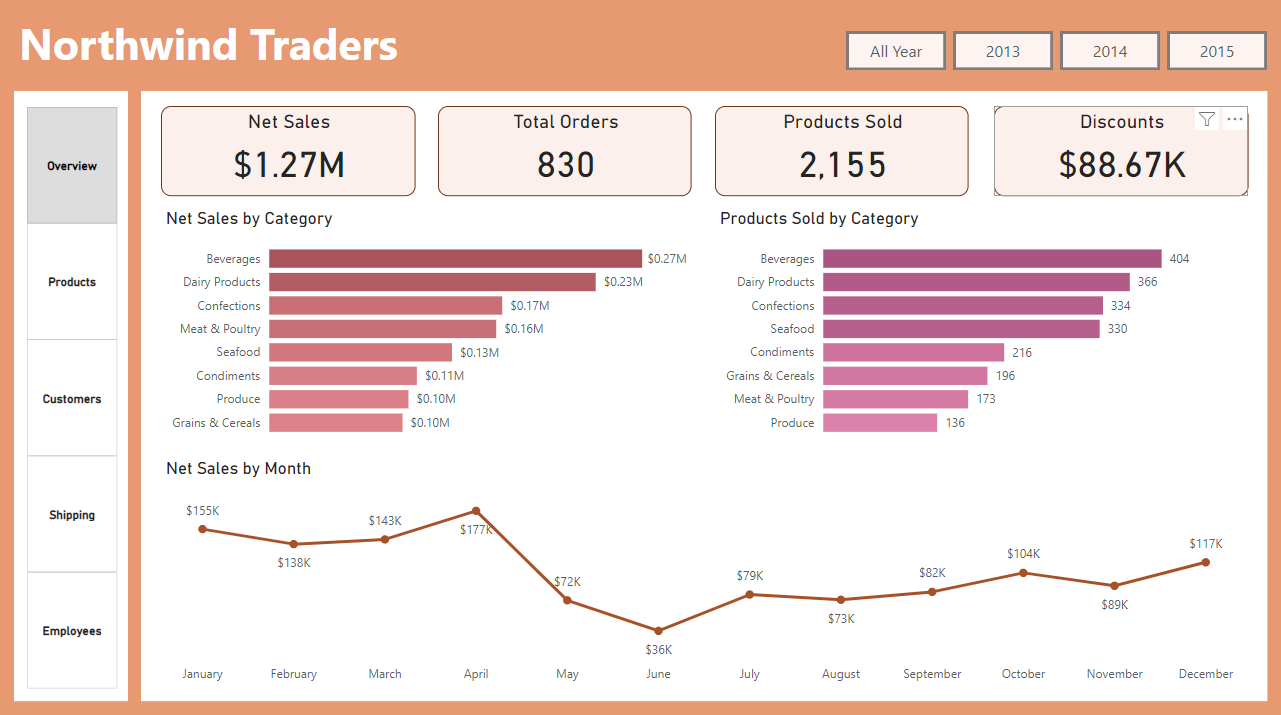

The page's visual inventory and layout, read from the dashboard file:
{"tool":"powerbi","page":{"name":"Overview","canvas":[1280,720],"ordinal":0},"visuals":[{"type":"textbox","box":[15.1,12.8,676,82.5],"z":0},{"type":"shape","box":[141.2,95,1123.8,608.8],"z":1000},{"type":"shape","box":[15,95,113.8,608.8],"z":2000},{"type":"card","title":"Net Sales","fields":{"Values":["_measures.Net Sales"]},"box":[161.2,110,253.8,90],"z":3000},{"type":"card","title":"Total Orders","fields":{"Values":["_measures.Total Orders"]},"box":[438.3,110,253.3,90],"z":4000},{"type":"card","title":"Products Sold","fields":{"Values":["_measures.Products Sold"]},"box":[714.2,110,253.3,90],"z":5000},{"type":"card","title":"Discounts","fields":{"Values":["_measures.Discounts"]},"box":[992.5,110,253.8,90],"z":6000},{"type":"barChart","title":"Net Sales by Category","fields":{"Y":["_measures.Net Sales"],"Category":["categories.categoryName"]},"box":[161.5,211.4,529.7,238.1],"z":7000},{"type":"barChart","title":"Products Sold by Category","fields":{"Category":["categories.categoryName"],"Y":["_measures.Products Sold"]},"box":[714.3,211.4,530.8,238.1],"z":8000},{"type":"lineChart","title":"Net Sales by Month","fields":{"Y":["_measures.Net Sales"],"Category":["date_table.Date.Variation.Date Hierarchy.Month"]},"box":[161.5,461.1,1083.7,233.5],"z":9000},{"type":"actionButton","box":[845,35,100,39.4],"z":10000},{"type":"actionButton","box":[951.4,35,100,39.3],"z":11000},{"type":"actionButton","box":[1058.6,35,100,39.3],"z":12000},{"type":"actionButton","box":[1165,34.8,99.9,39.5],"z":13000},{"type":"pageNavigator","box":[27.9,110.3,90.6,584.2],"z":14000}]}

Visuals, with their boxes in screenshot pixels (x1, y1, x2, y2), scaled from the page's 1280x720 canvas onto the 1281x715 screenshot:
textbox: locate(15, 13, 692, 95)
shape: locate(141, 94, 1266, 699)
shape: locate(15, 94, 129, 699)
"Net Sales" card: locate(161, 109, 415, 199)
"Total Orders" card: locate(439, 109, 692, 199)
"Products Sold" card: locate(715, 109, 968, 199)
"Discounts" card: locate(993, 109, 1247, 199)
"Net Sales by Category" barChart: locate(162, 210, 692, 446)
"Products Sold by Category" barChart: locate(715, 210, 1246, 446)
"Net Sales by Month" lineChart: locate(162, 458, 1246, 690)
actionButton: locate(846, 35, 946, 74)
actionButton: locate(952, 35, 1052, 74)
actionButton: locate(1059, 35, 1160, 74)
actionButton: locate(1166, 35, 1266, 74)
pageNavigator: locate(28, 110, 119, 690)
